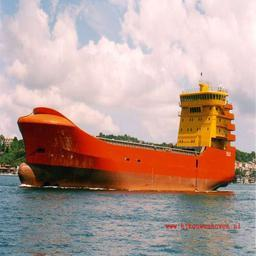Ship: (14, 71, 241, 198)
